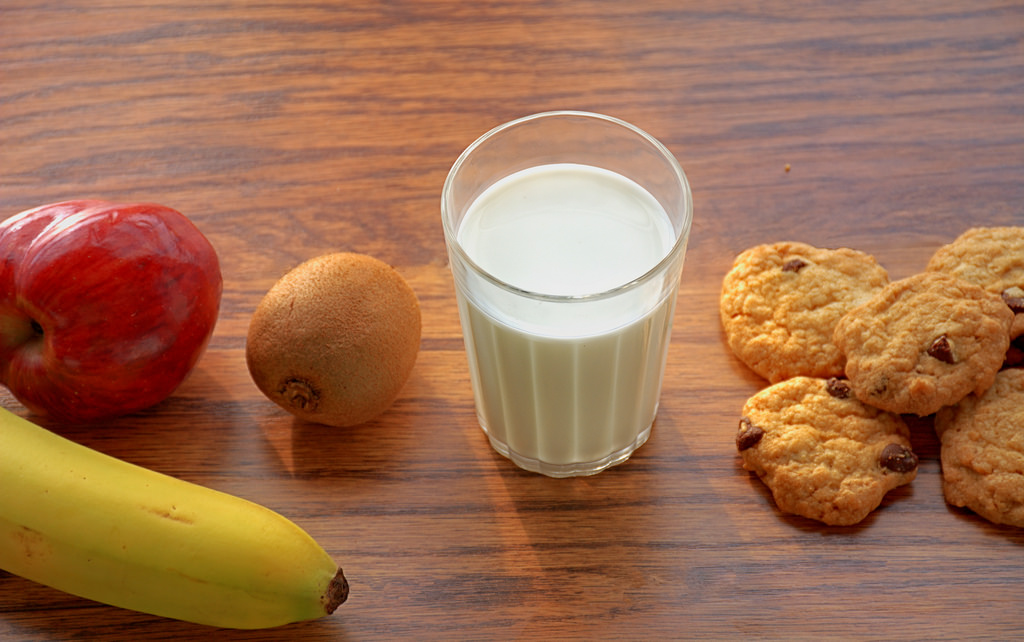glass of milk: (432, 108, 698, 484)
